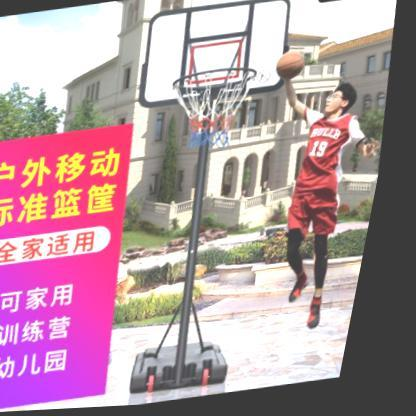basketball: (276, 52, 311, 85)
rim: (167, 65, 269, 158)
